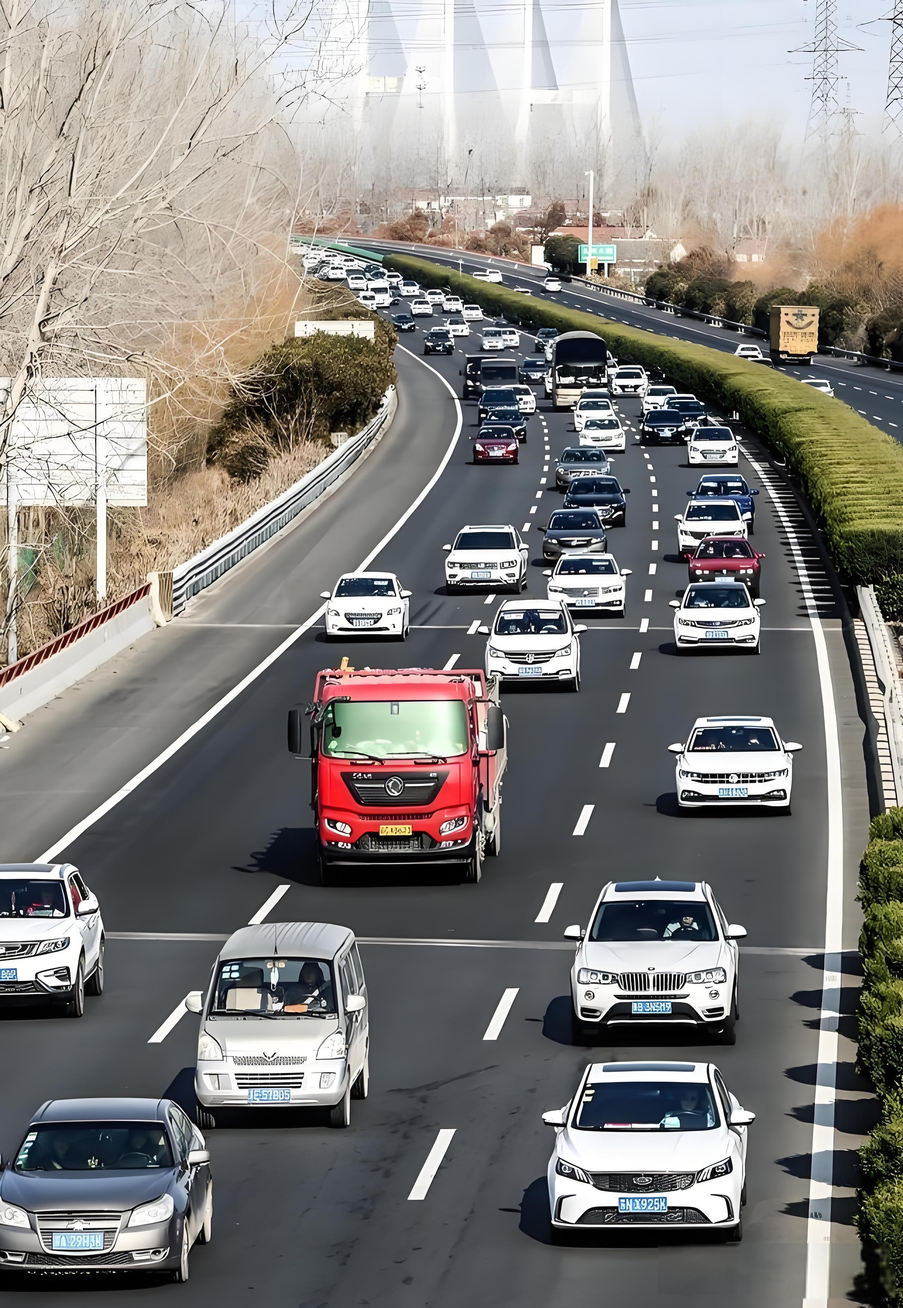bus: (530, 326, 623, 418)
car: (186, 902, 389, 1150), (1, 1095, 205, 1293), (549, 850, 742, 1037), (538, 1065, 737, 1221), (1, 850, 118, 1006), (678, 703, 817, 810), (485, 588, 593, 691), (666, 549, 748, 656), (540, 541, 646, 622), (673, 523, 776, 603), (677, 492, 769, 575), (446, 511, 530, 593), (331, 574, 419, 640), (678, 462, 763, 524), (555, 468, 643, 522), (463, 420, 542, 479), (562, 391, 626, 458), (546, 504, 617, 563), (481, 356, 550, 416), (571, 450, 646, 505), (657, 414, 726, 471), (636, 379, 686, 430), (471, 315, 539, 352), (472, 375, 519, 425), (419, 319, 457, 360), (447, 316, 468, 340)
truck: (321, 657, 515, 885)
